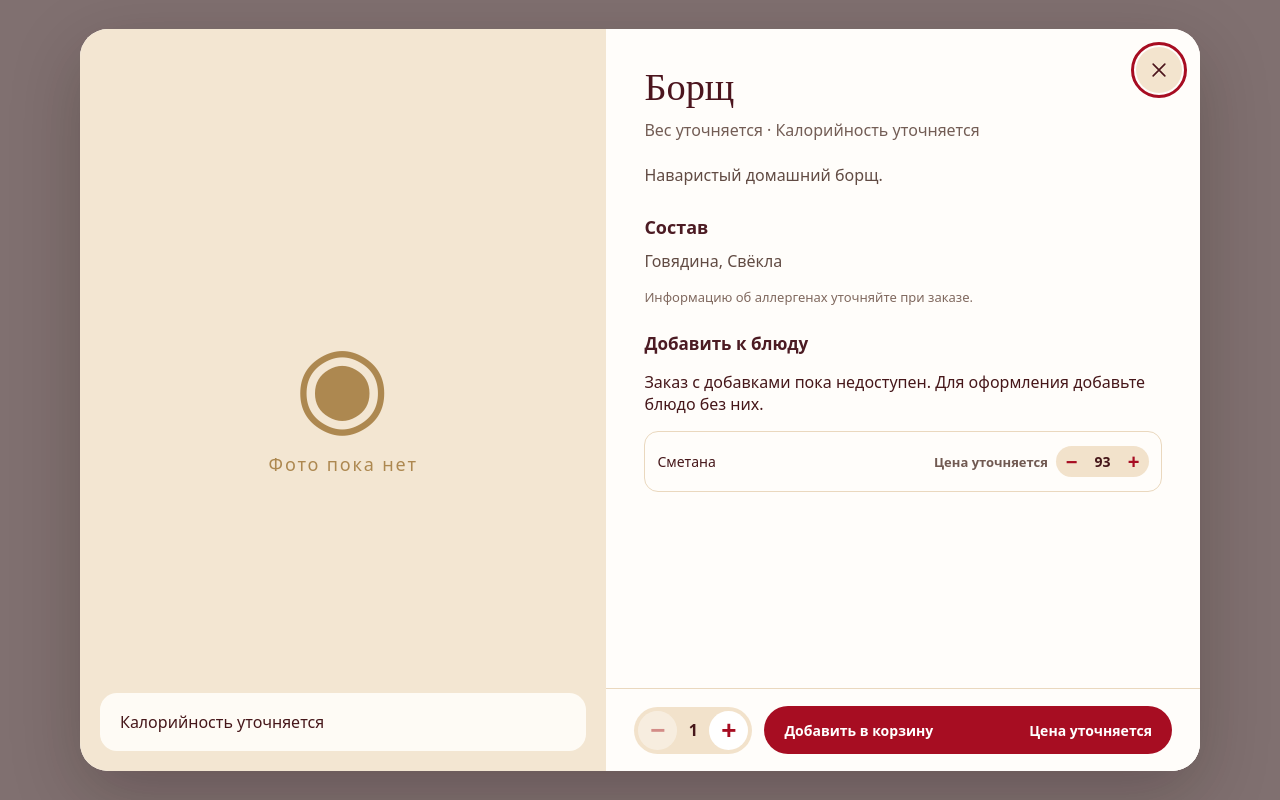
Test: количество добавок ограничено 99 и блюдо переживает восстановление
Earlier steps of the test are not shown.
Later steps or results of the test are not shown.
Click the button named "Добавить добавку «Сметана»". click: click(1134, 462)
box: top-left (1121, 449), bottom-right (1146, 474)
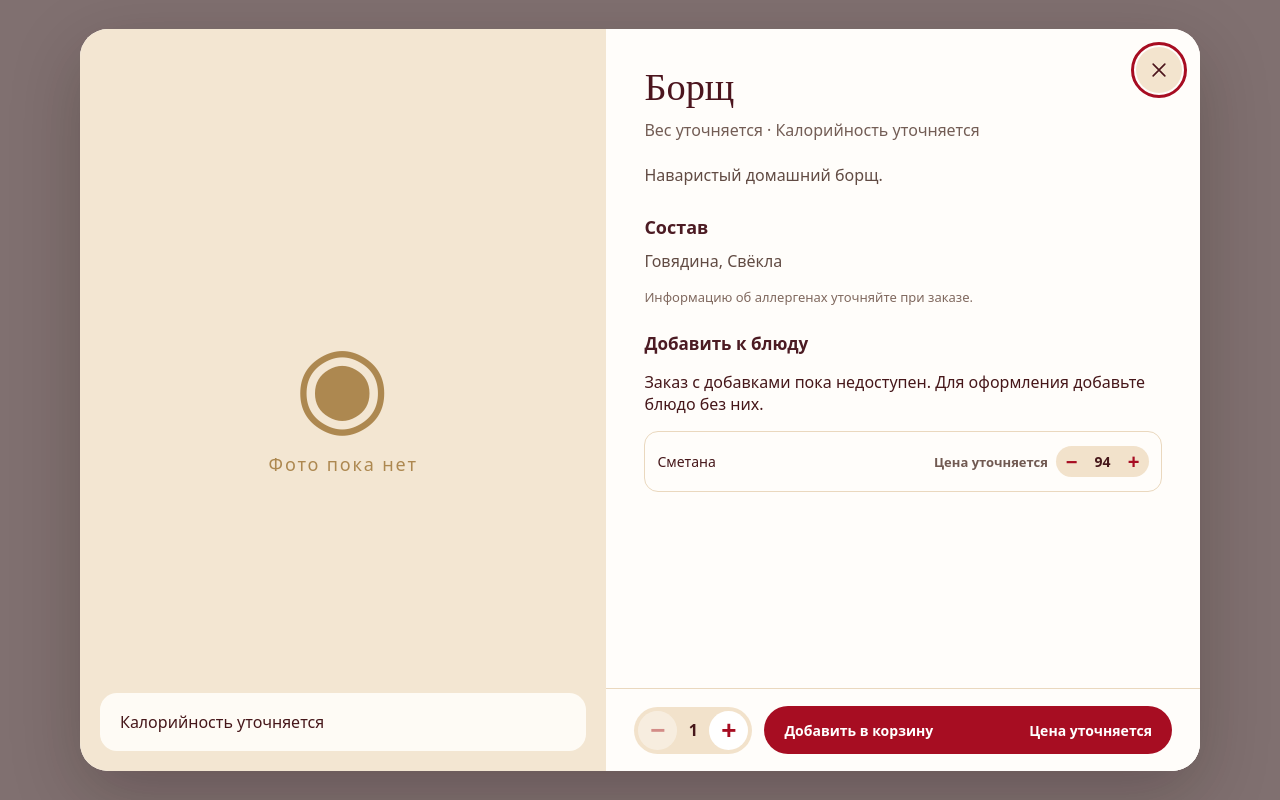
Click the button named "Добавить добавку «Сметана»". click: click(1134, 462)
box: top-left (1121, 449), bottom-right (1146, 474)
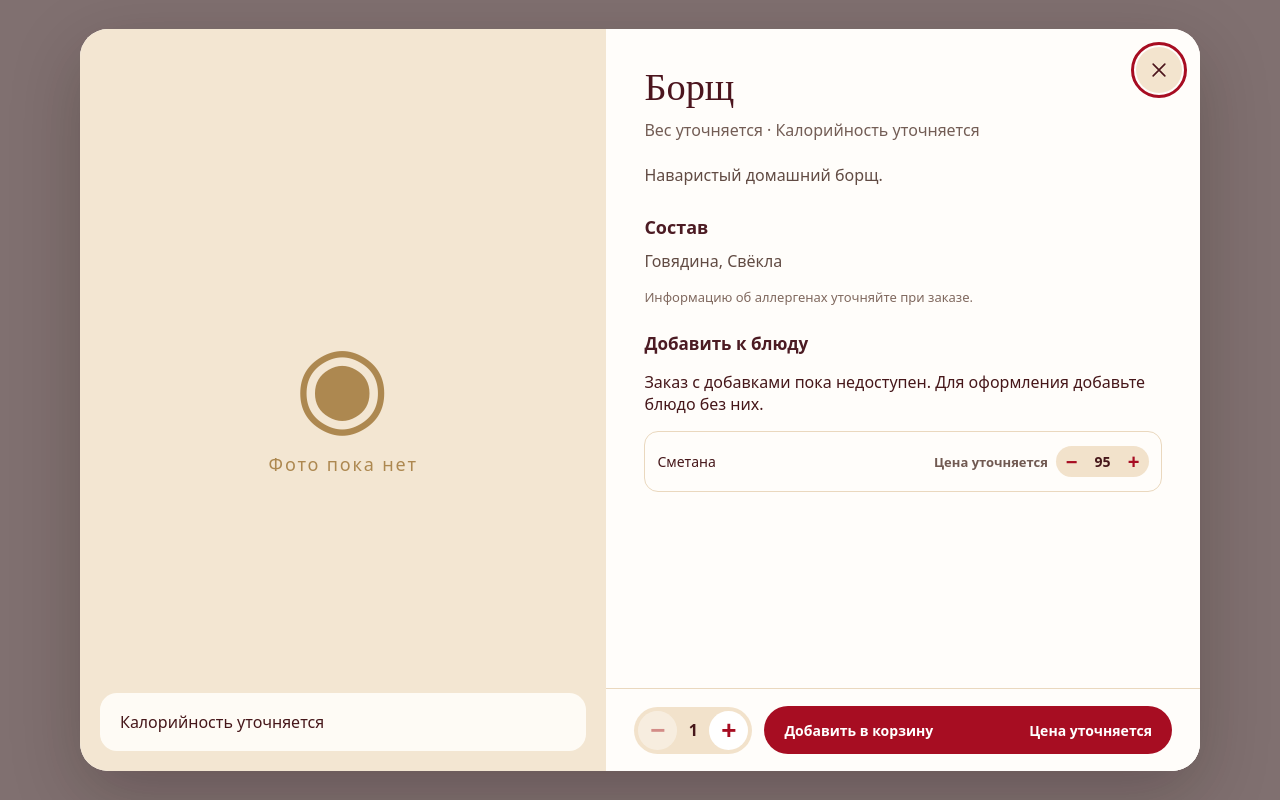
Click the button named "Добавить добавку «Сметана»". click: click(1134, 462)
box: top-left (1121, 449), bottom-right (1146, 474)
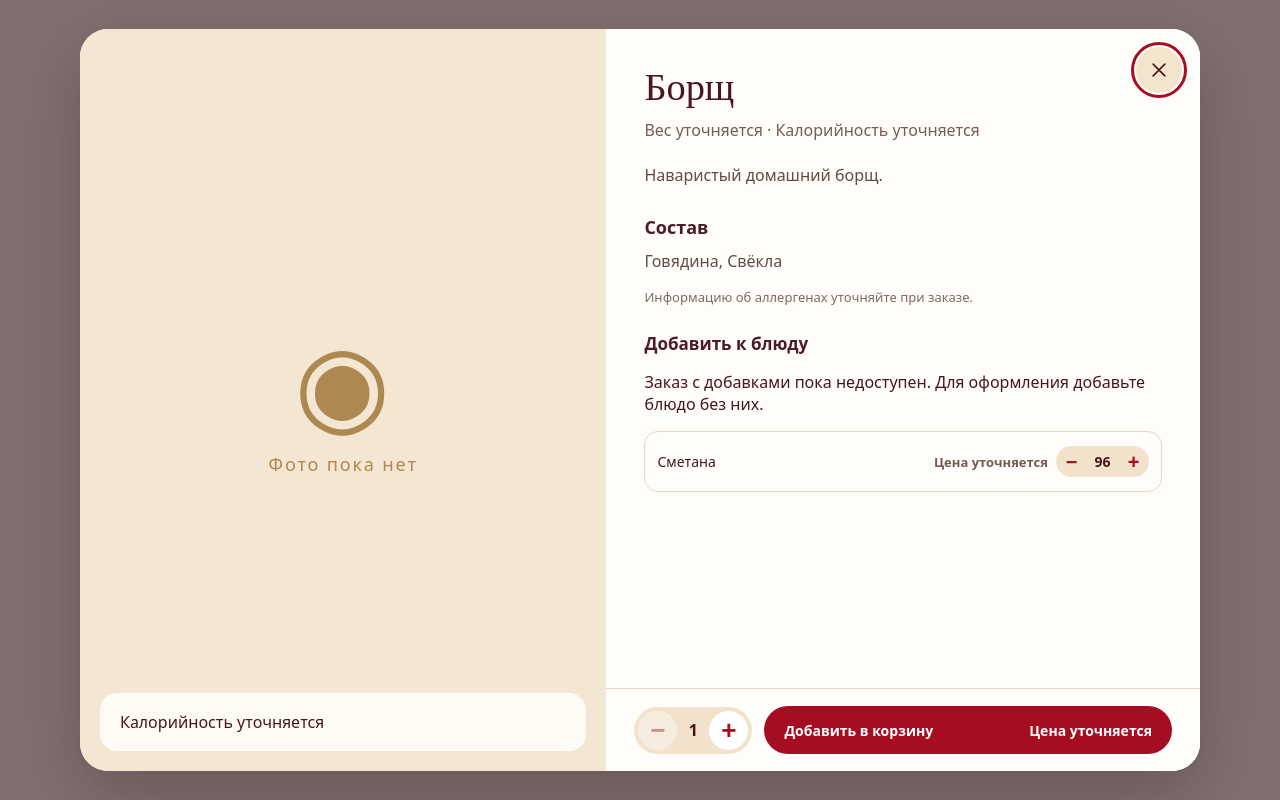
Click the button named "Добавить добавку «Сметана»". click: click(1134, 462)
box: top-left (1121, 449), bottom-right (1146, 474)
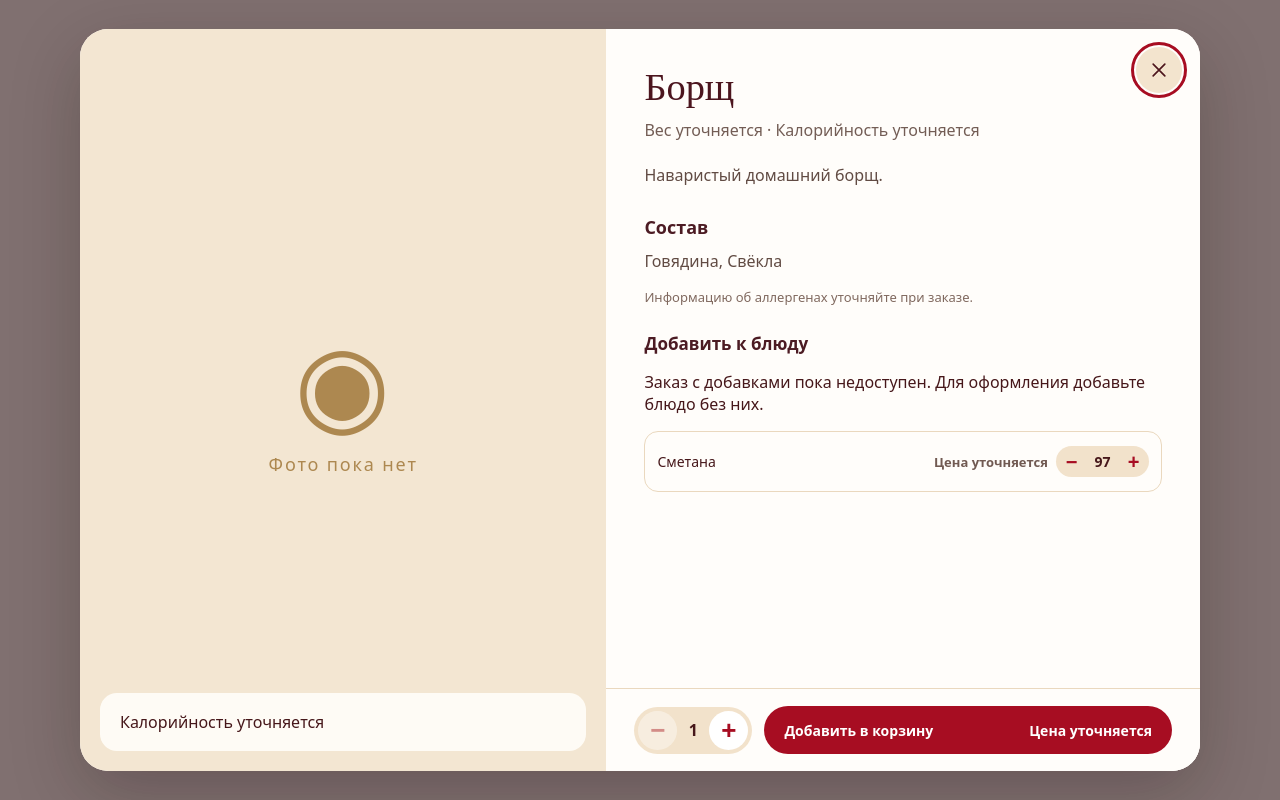
Click the button named "Добавить добавку «Сметана»". click: click(1134, 462)
box: top-left (1121, 449), bottom-right (1146, 474)
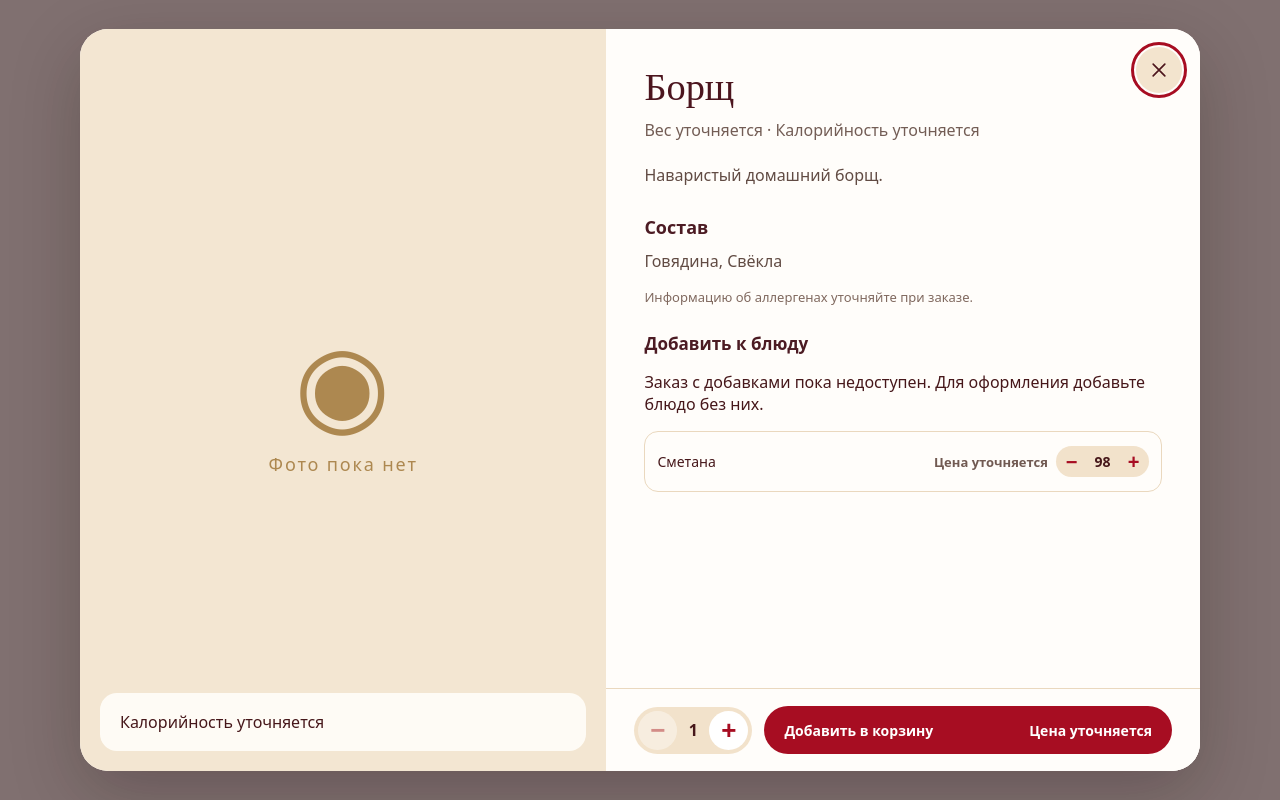
Click the button named "Добавить добавку «Сметана»". click: click(1134, 462)
box: top-left (1121, 449), bottom-right (1146, 474)
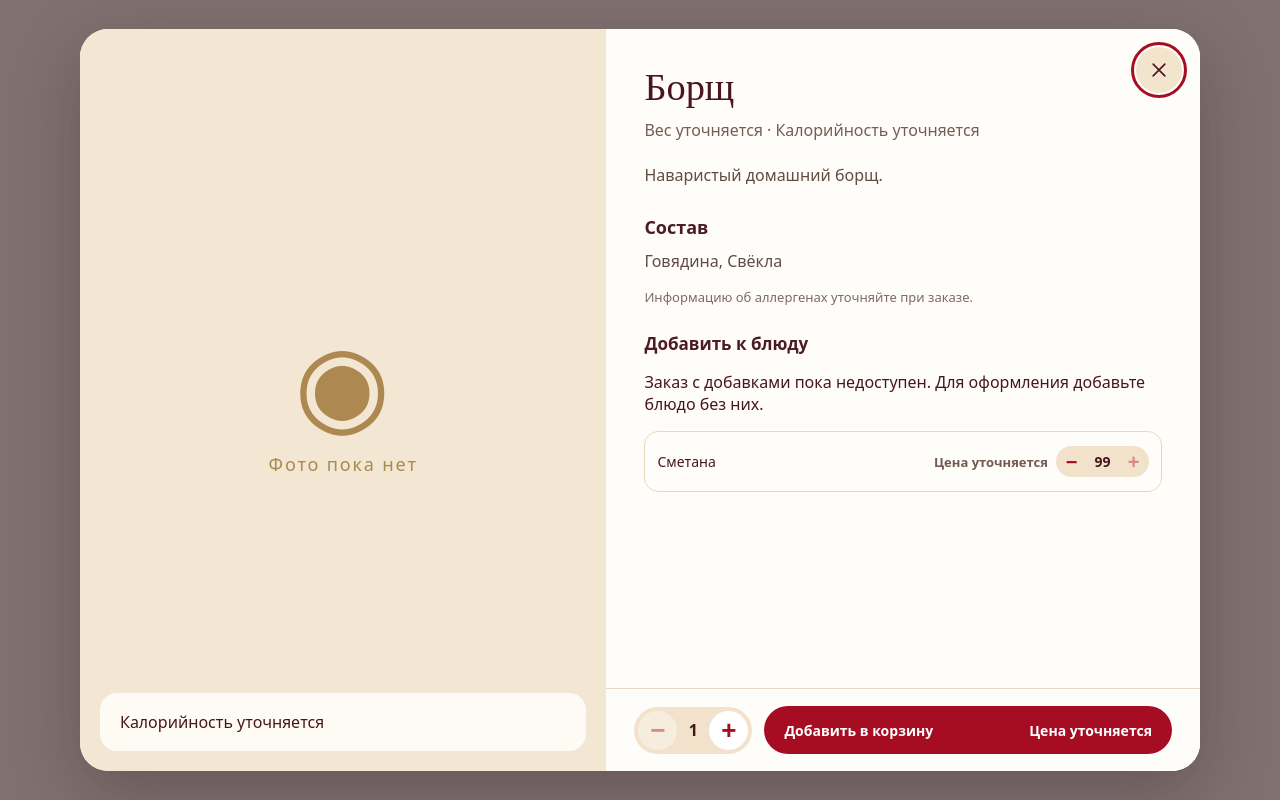
Click the button named "Добавить добавку «Сметана»". click: click(1134, 462)
box: top-left (1121, 449), bottom-right (1146, 474)
Expected: the button named "Добавить добавку «Сметана»" is disabled, top-left (1121, 449), bottom-right (1146, 474)
